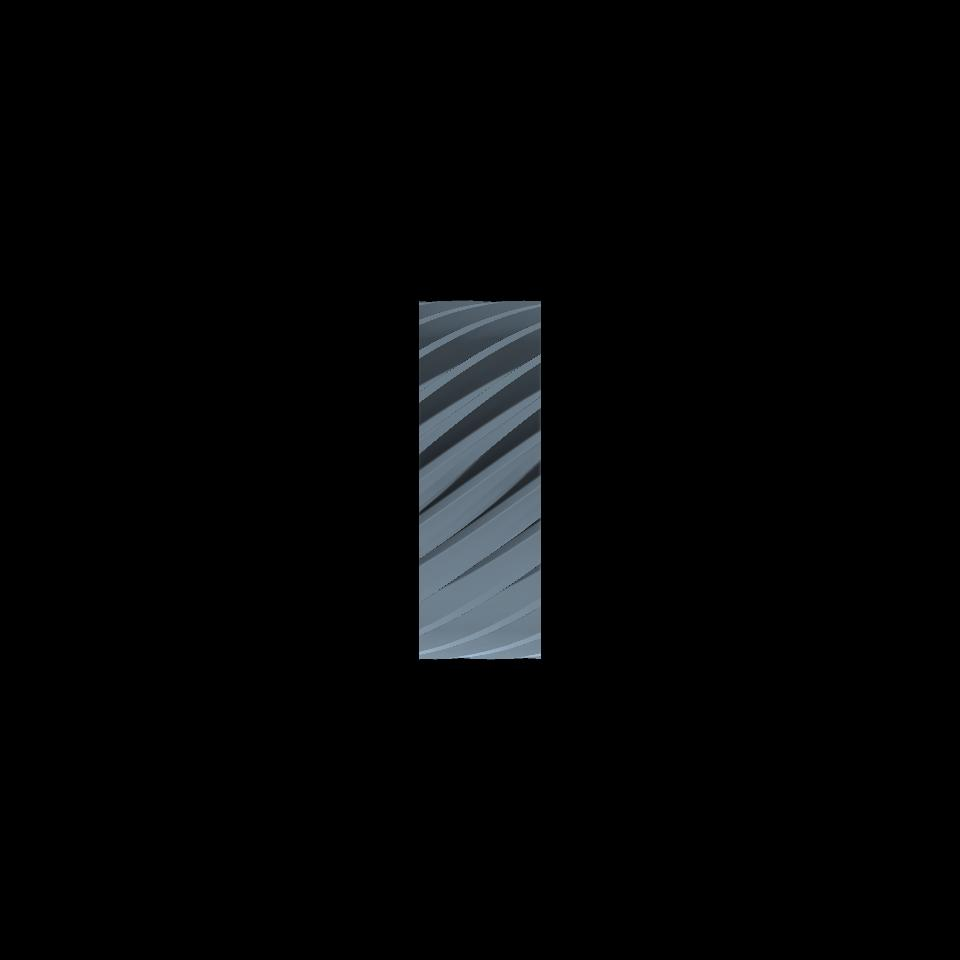Helical: (419, 300, 541, 658)
